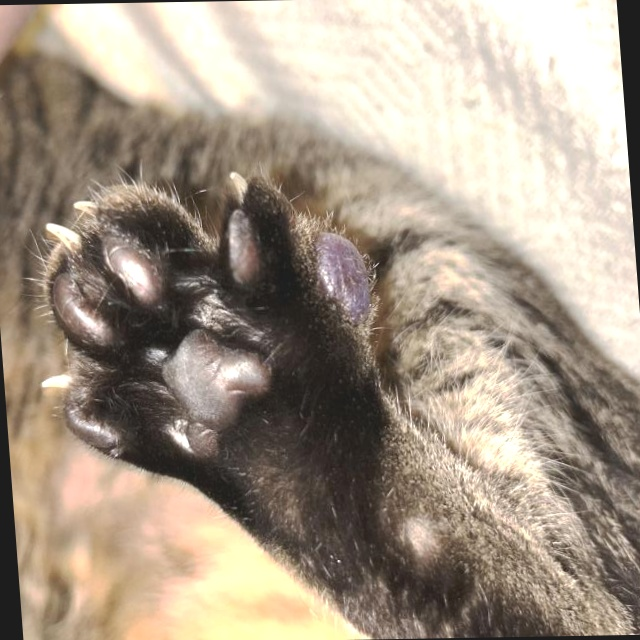lump_and_bump: (305, 222, 374, 326)
